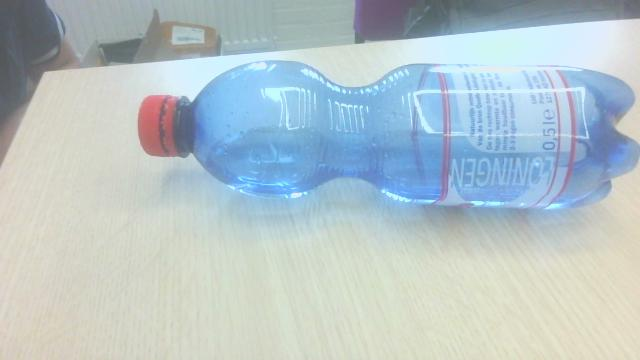plastic_bottle: (123, 48, 640, 222)
